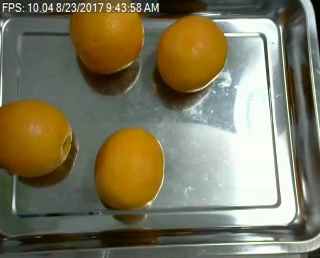Orange: (93, 126, 164, 212), (155, 14, 229, 91), (1, 101, 73, 177), (70, 1, 143, 72)
